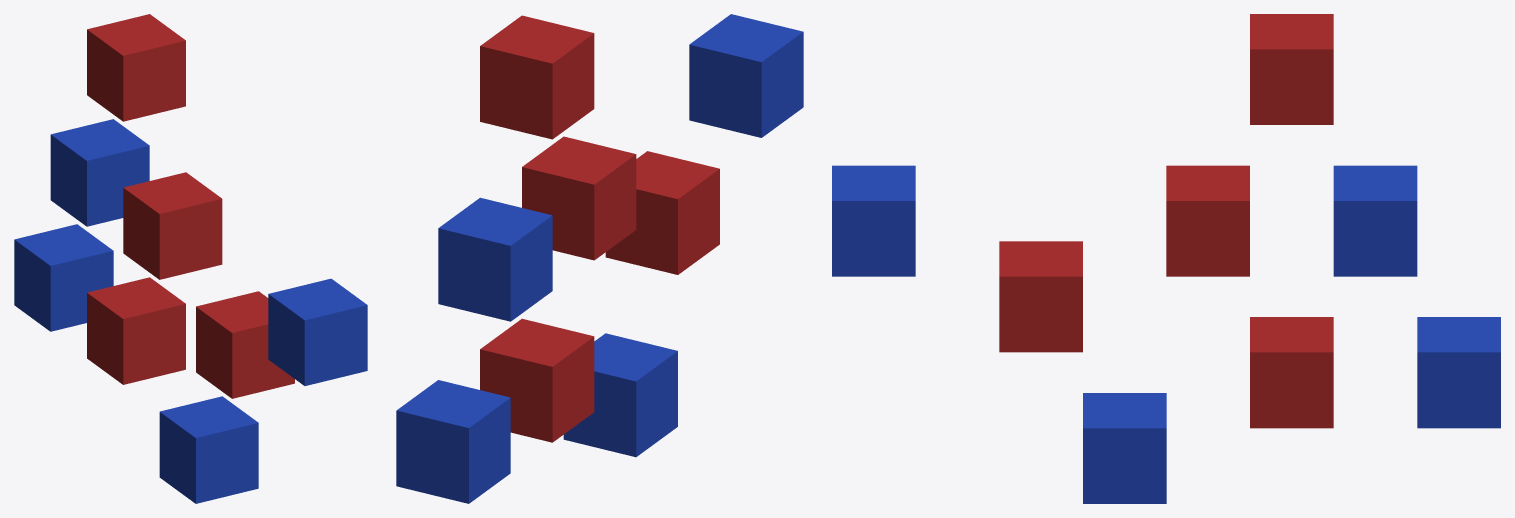
Rendered from Die8.obj.
3 renders of one model, left to right at view 1: azimuth 30°, elevation 25°; view 2: azimuth 150°, elevation 25°; view 3: azimuth 270°, elevation 25°, orthographic. The views are drawn at different scales.
Bounding box in the file's own units: 0.1 × 0.6 × 0.8.
1 material, 1 textured.
